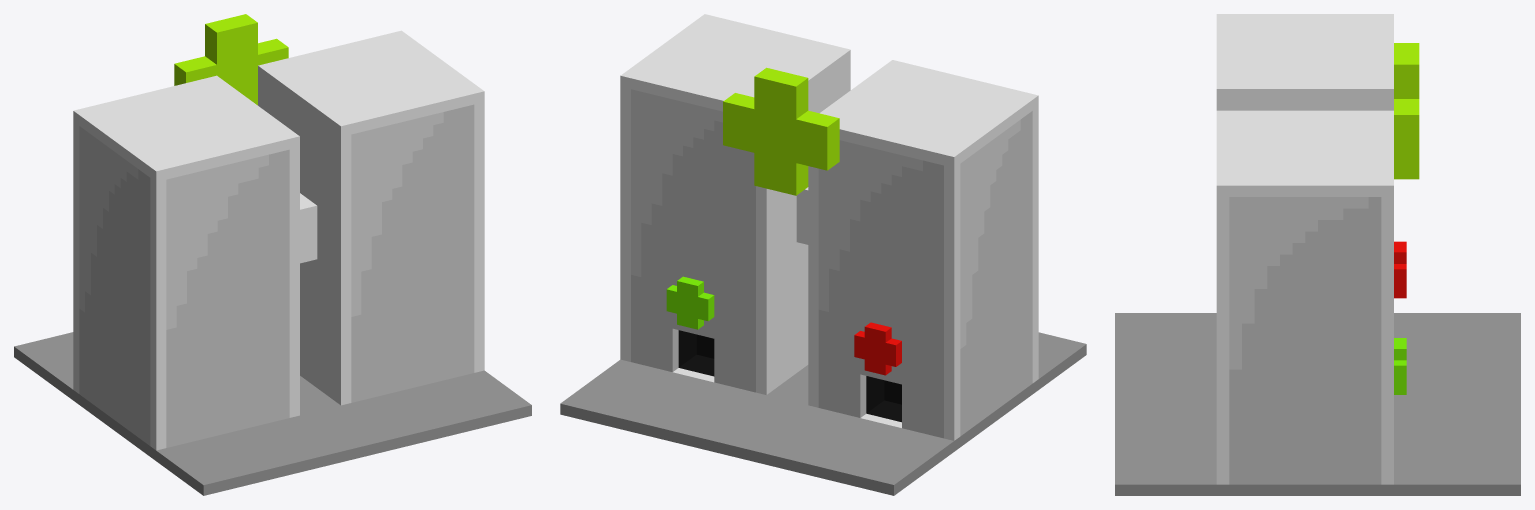
Rendered from hospital1.obj.
3 renders of one model, left to right at view 1: azimuth 30°, elevation 25°; view 2: azimuth 150°, elevation 25°; view 3: azimuth 270°, elevation 25°, orthographic. The views are drawn at different scales.
Size of the model in its own units: 3.2 by 3.1 by 3.2.
1 material, 1 textured.
